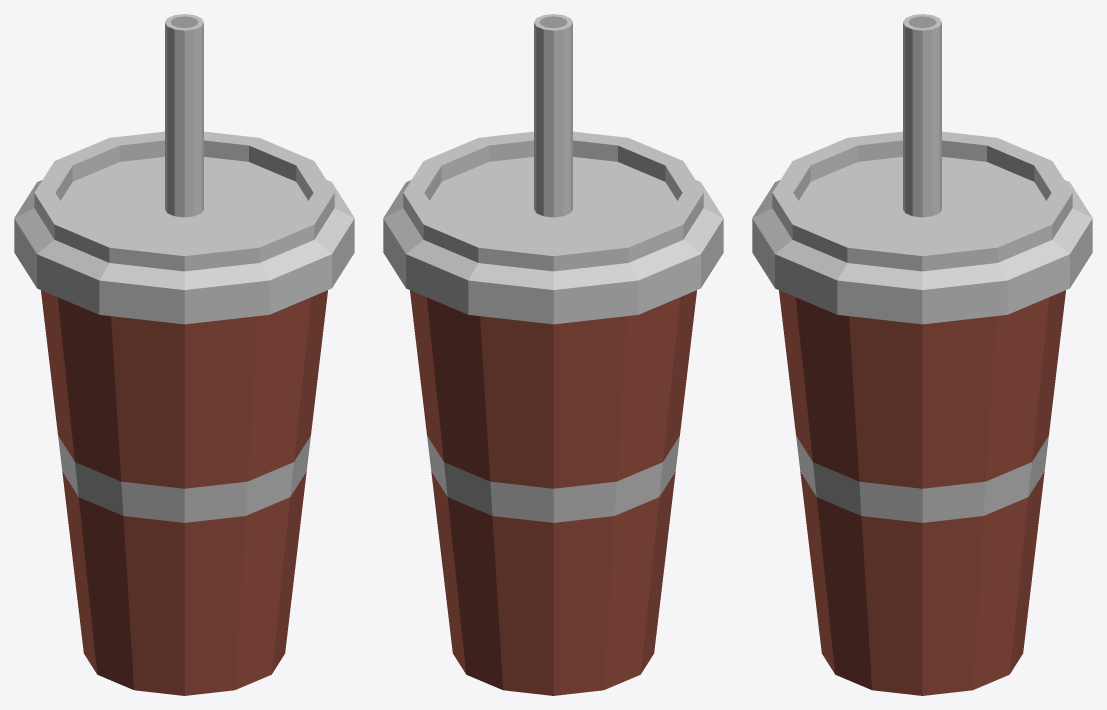
Rendered from Soda.fbx.
The picture shows the model from 3 angles, left to right: view 1: azimuth 30°, elevation 25°; view 2: azimuth 150°, elevation 25°; view 3: azimuth 270°, elevation 25°; orthographic projection.
Parts seen in each view (by area): view 1: Soda; view 2: Soda; view 3: Soda.
Boxes of the visible parts, x1=… form: Soda: x1=14, y1=14, x2=354, y2=695; Soda: x1=383, y1=14, x2=723, y2=695; Soda: x1=752, y1=14, x2=1092, y2=695.
Size of the model in its own units: 12.72 by 26.01 by 12.72.
